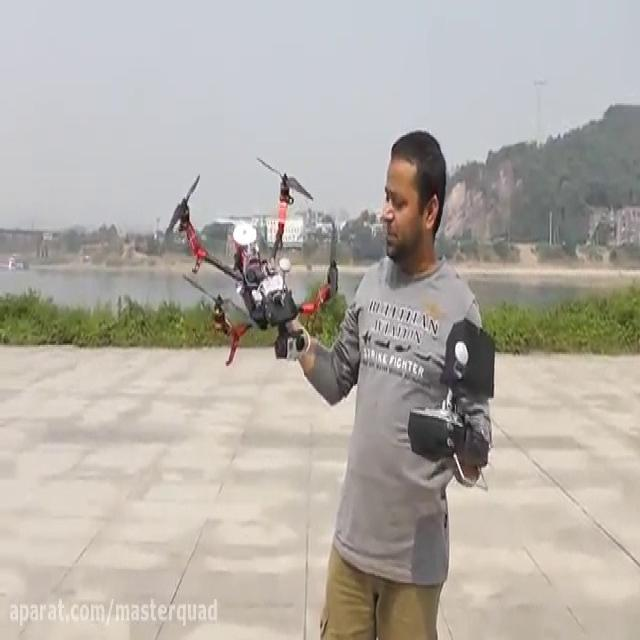drone: (159, 151, 344, 370)
